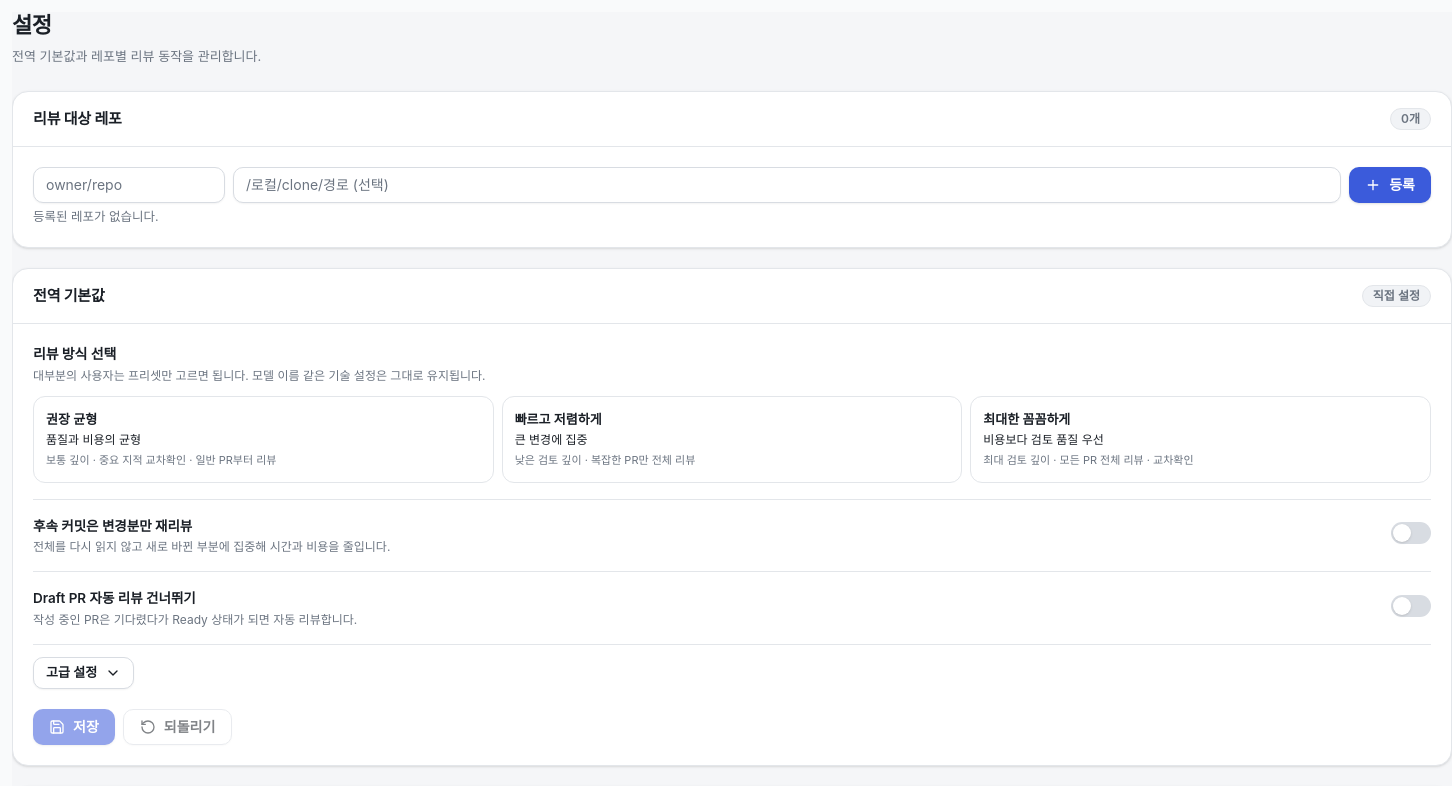
shows common global settings first and keeps technical settings collapsed
The width and height of the screenshot is (1452, 786).
Expected: the heading "리뷰 방식 선택" is shown, [33,345,116,362]
Expected: the switch named "변경만 재리뷰" is shown, [1391,522,1431,544]
Click the button with aria-label "전역 고급 설정 펼치기" at {"x": 84, "y": 673}, box [33,657,134,689]
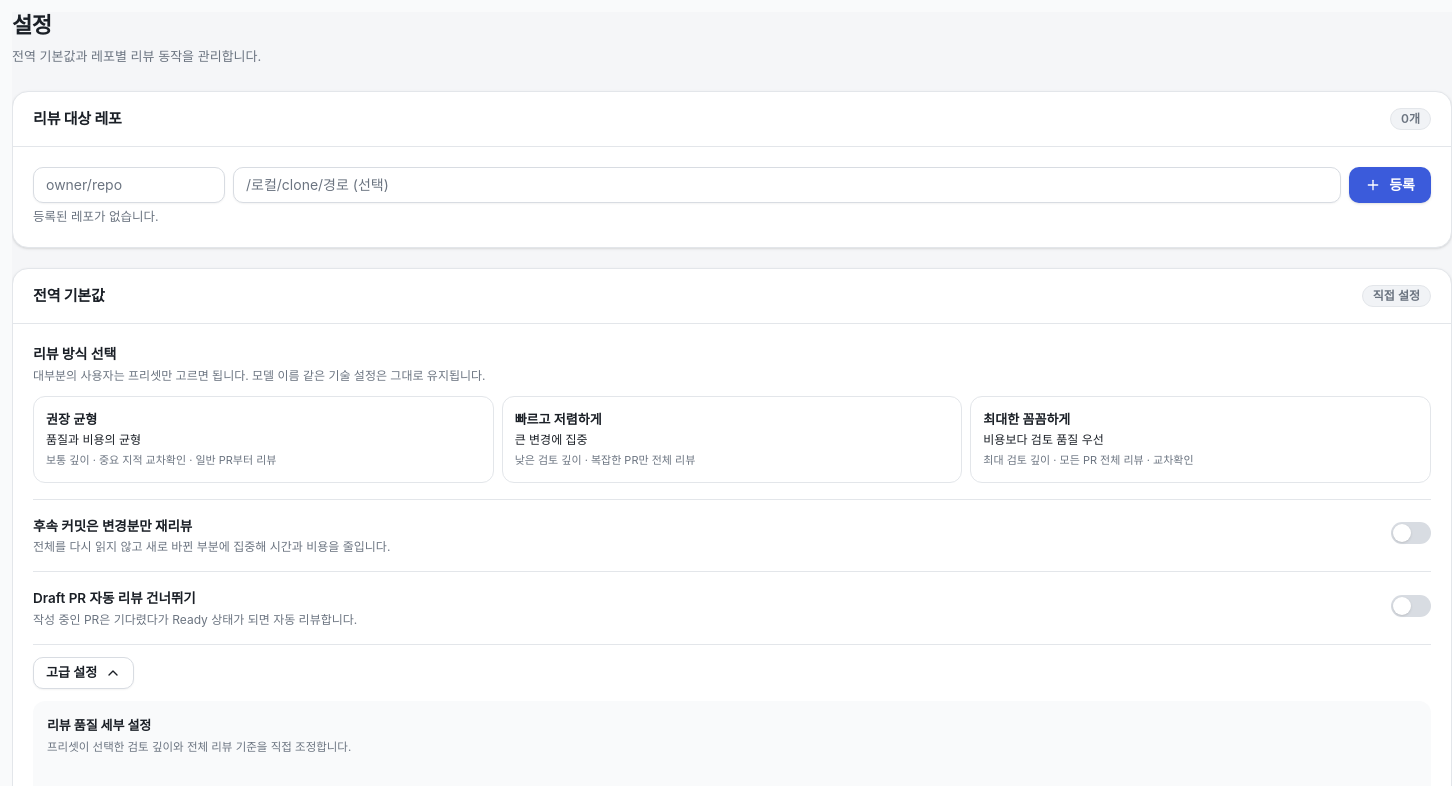
Expected: the button with aria-label "전역 고급 설정 접기" is shown, [33,657,134,689]
